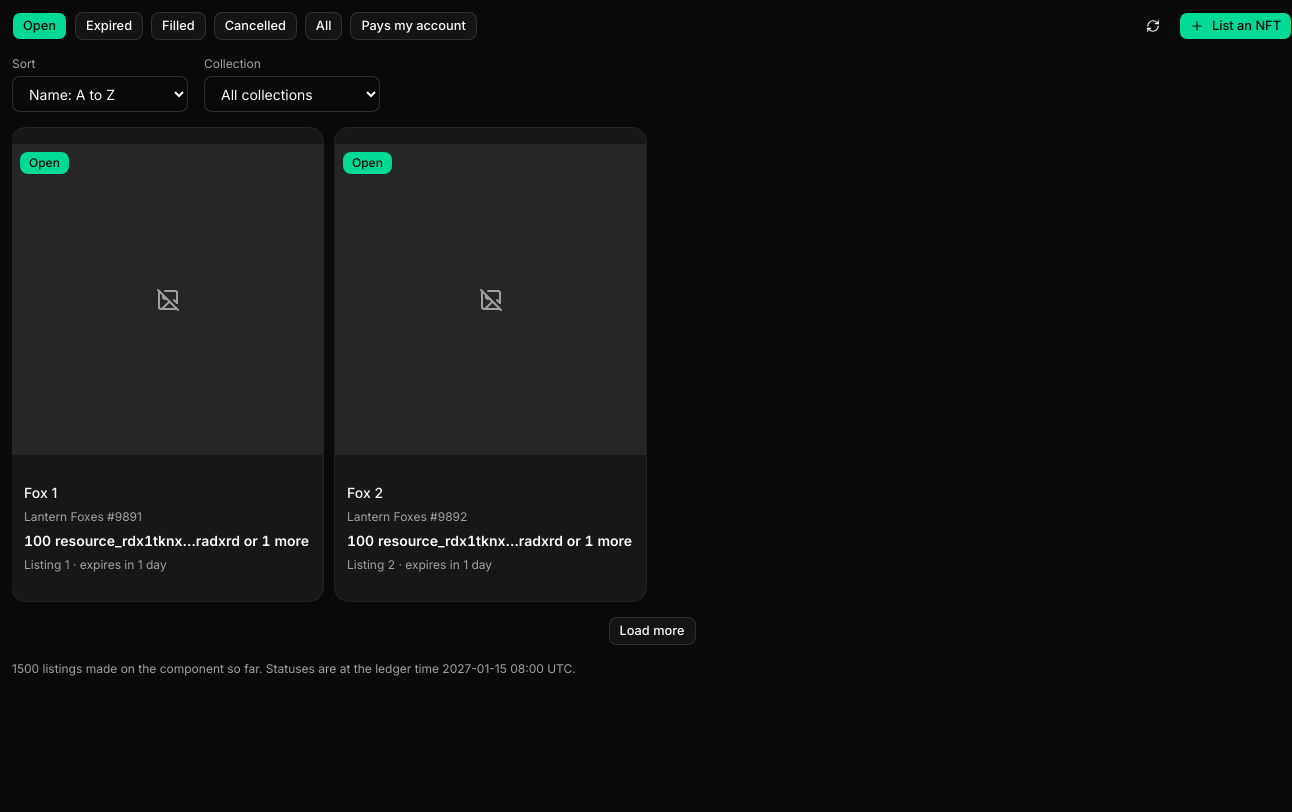
Test: SwapBoard — cards, sort and collection filter › Load more shows a listing once when the server re-sorted between pages, with unique keys
What coordinates should you click on to do the following:
click the button "Load more"
I would click on:
 (652, 631)
Its box is [608,617,696,645].
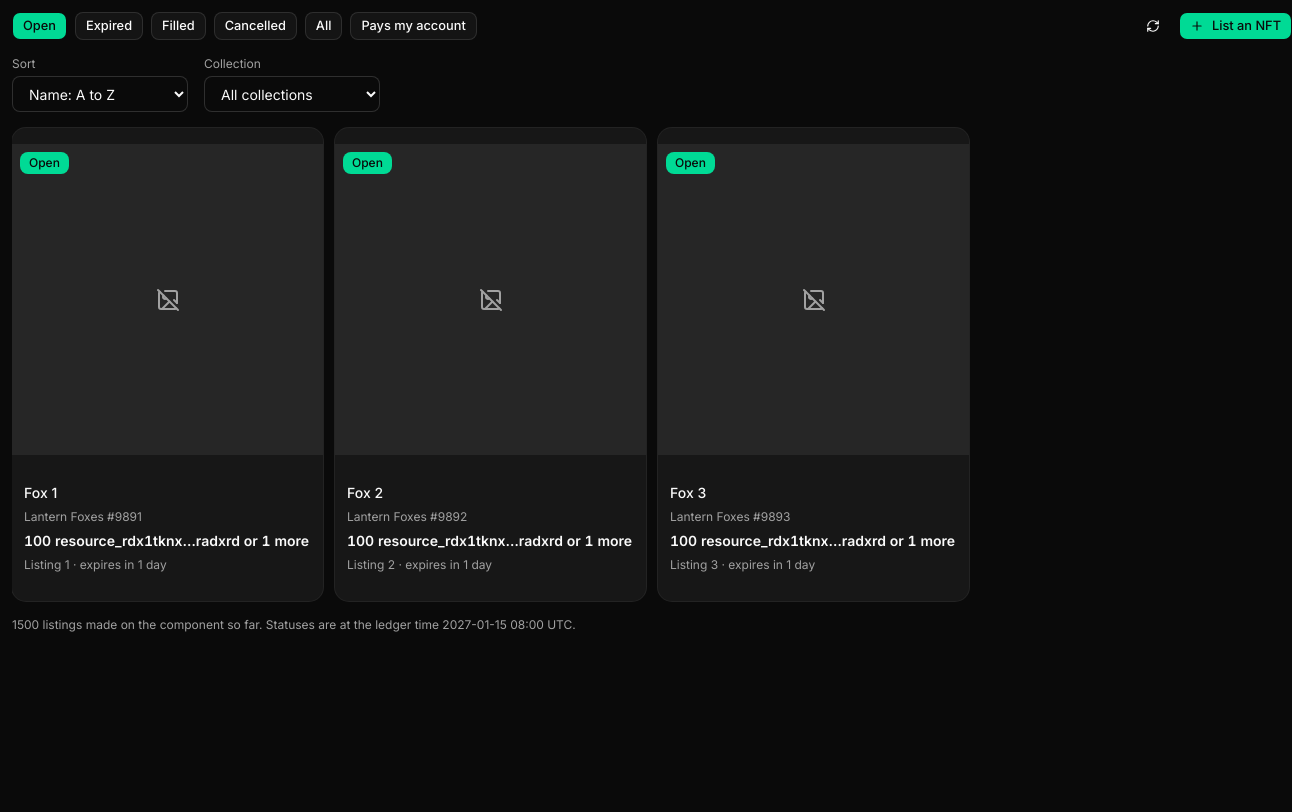
Expected: the text "Fox 1" is shown once, [24,484,57,501]
Expected: the text "Fox 3" is shown, [670,484,706,501]
